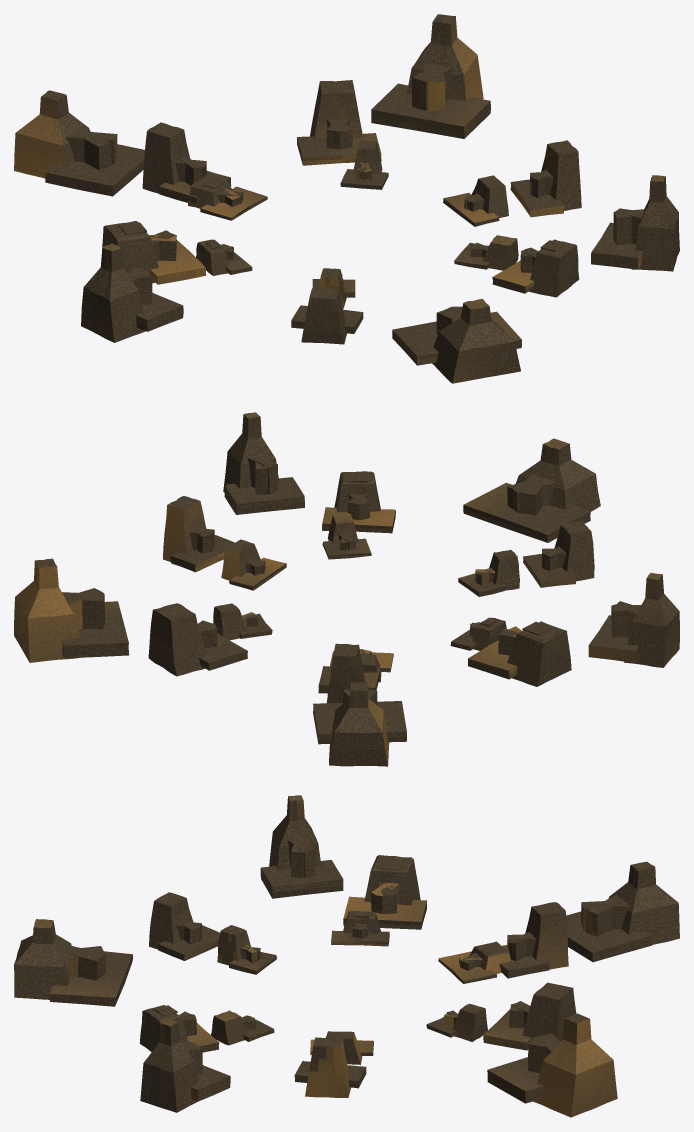
The model's file is authored-mountains.glb.
3 renders of one model, top to bottom at view 1: azimuth 30°, elevation 25°; view 2: azimuth 150°, elevation 25°; view 3: azimuth 270°, elevation 25°, orthographic. The views are drawn at different scales.
Parts seen in each view (by area): view 1: Mtn_Far, Mtn_Mid, Mtn_Near; view 2: Mtn_Far, Mtn_Mid, Mtn_Near; view 3: Mtn_Far, Mtn_Mid, Mtn_Near.
Boxes of the visible parts, <box> form: Mtn_Far: <box>14,14,679,383</box>; Mtn_Mid: <box>102,80,581,344</box>; Mtn_Near: <box>188,140,518,308</box>; Mtn_Far: <box>14,412,679,766</box>; Mtn_Mid: <box>148,471,594,703</box>; Mtn_Near: <box>213,513,519,682</box>; Mtn_Far: <box>14,795,679,1117</box>; Mtn_Mid: <box>139,855,576,1097</box>; Mtn_Near: <box>211,911,510,1064</box>.
Bounding box in the file's own units: 1577 × 244 × 1772.
1 material, 1 textured.
